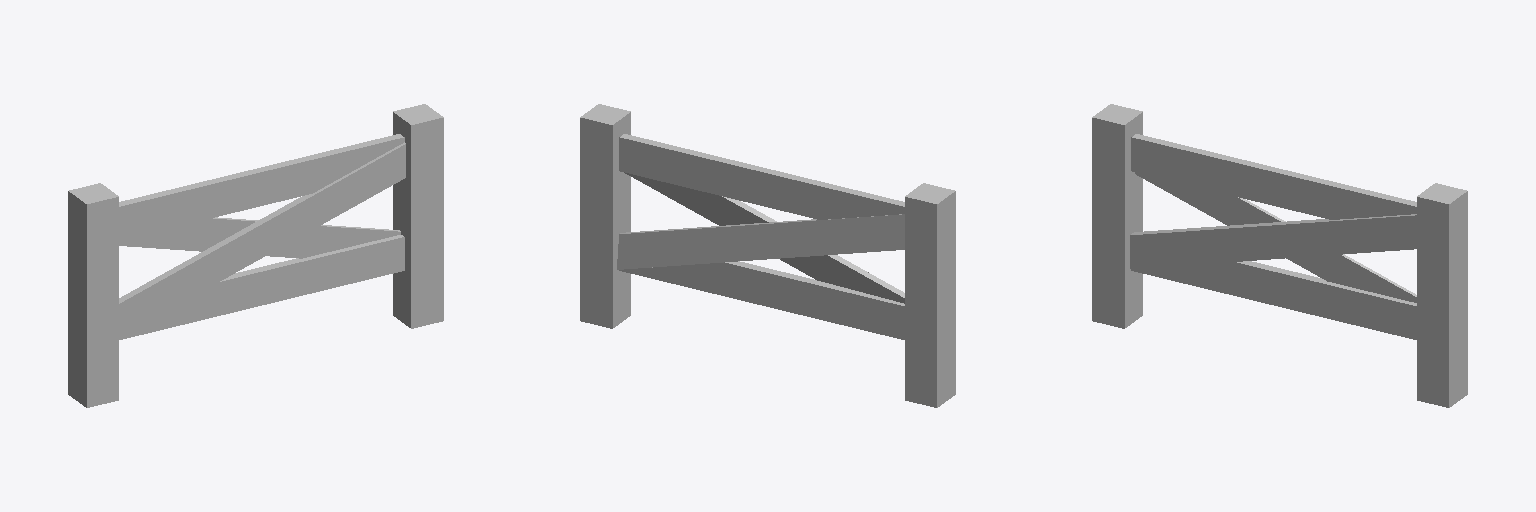
File: FenceModel.obj
The picture shows the model from 3 angles: view 1: azimuth 30°, elevation 25°; view 2: azimuth 150°, elevation 25°; view 3: azimuth 330°, elevation 25°; orthographic projection.
Visible parts, largest first — view 1: Cube.001; view 2: Cube.001; view 3: Cube.001.
Part boxes in pixels (x1,y1,x2,y2): Cube.001: (68,104,443,407); Cube.001: (580,104,955,407); Cube.001: (1092,104,1467,407).
Bounding box in the file's own units: 2.2 × 1.2 × 0.2.